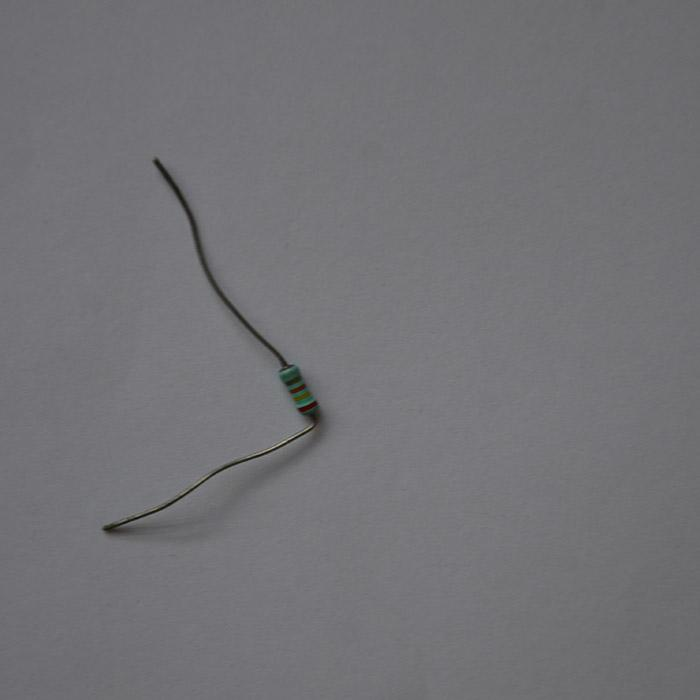resistor: (277, 362, 316, 413)
